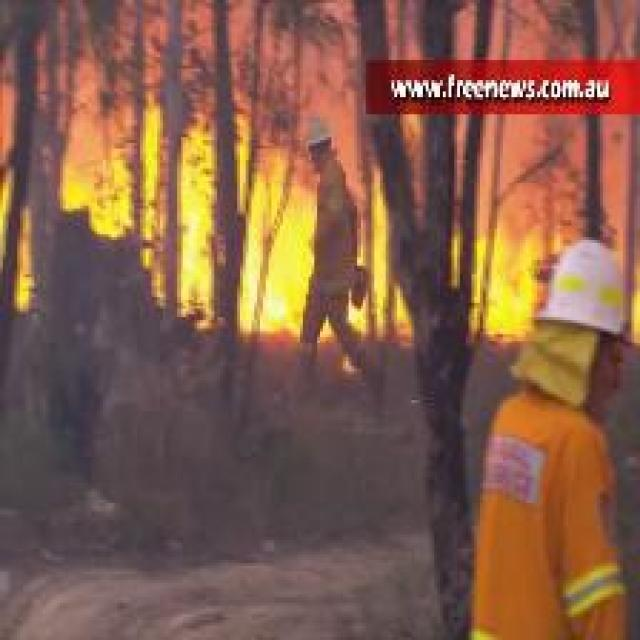Fire: (0, 94, 640, 343)
